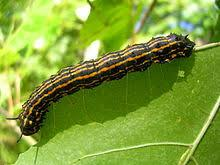Caterpillar: (13, 32, 198, 140)
